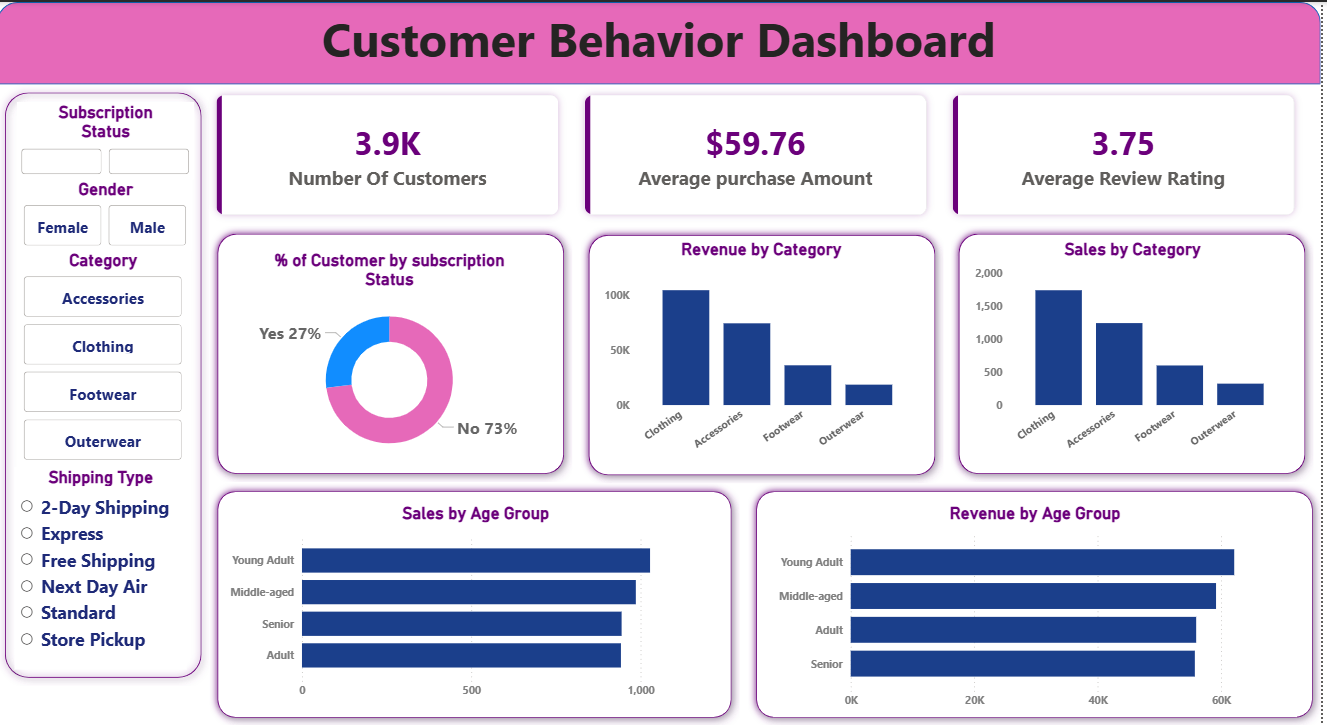

Layout of this report page (visuals, bound fields, positions):
{"tool":"powerbi","page":{"name":"Page 1","canvas":[1500,820],"ordinal":0},"visuals":[{"type":"shape","box":[851.5,545.4,648.9,274.8],"z":0},{"type":"cardVisual","fields":{"Data":["public customer.Number Of Customers","public customer.Average purchase Amount","public customer.Average Review Rating"]},"box":[221,77.9,1279.3,191.3],"z":1000},{"type":"shape","box":[0,0,1500.3,93.5],"z":2000},{"type":"textbox","box":[0,0,1500.3,93.5],"z":3000},{"type":"shape","box":[240.8,253.6,410.9,290.4],"z":4000},{"type":"donutChart","title":"% of Customer by subscription Status","fields":{"Category":["public customer.subscription_status"],"Y":["CountNonNull(public customer.customer_id)"]},"box":[257.8,281.9,374,245.1],"z":5000},{"type":"shape","box":[660.9,255,410.9,290.4],"z":6000},{"type":"shape","box":[1081,253.6,410.9,290.4],"z":7000},{"type":"clusteredColumnChart","title":"Revenue by Category","fields":{"Y":["Sum(public customer.purchase_amount)"],"Category":["public customer.category"]},"box":[682.9,269.2,366.9,257.8],"z":8000},{"type":"clusteredColumnChart","title":"Sales by Category","fields":{"Y":["CountNonNull(public customer.customer_id)"],"Category":["public customer.category"]},"box":[1103.6,269.2,366.9,257.8],"z":9000},{"type":"shape","box":[0,93.5,240.8,681.4],"z":10000},{"type":"advancedSlicerVisual","title":"Subscription Status","fields":{"Values":["public customer.subscription_status"]},"box":[22.7,113.3,201.2,87.8],"z":11000},{"type":"advancedSlicerVisual","title":"Gender","fields":{"Values":["public customer.gender"]},"box":[25.5,201.2,195.5,80.8],"z":12000},{"type":"advancedSlicerVisual","title":"Category","fields":{"Values":["public customer.category"]},"box":[25.5,281.9,189.8,245.1],"z":13000},{"type":"listSlicer","title":"Shipping Type","fields":{"Values":["public customer.shipping_type"]},"box":[19.8,527,195.5,229.5],"z":14000},{"type":"clusteredBarChart","title":"Revenue by Age Group","fields":{"Y":["Sum(public customer.purchase_amount)"],"Category":["public customer.age_group"]},"box":[879.8,568.1,593.6,242.3],"z":15000},{"type":"shape","box":[240.8,545.4,600.7,274.8],"z":16000},{"type":"clusteredBarChart","title":"Sales by Age Group","fields":{"Y":["CountNonNull(public customer.customer_id)"],"Category":["public customer.age_group"]},"box":[257.8,568.1,569.5,230.9],"z":17000}]}

Visuals, with their boxes in screenshot pixels (x1, y1, x2, y2), scaled from the page's 1500x820 canvas onto the 1327x725 screenshot:
shape: x1=753, y1=482, x2=1326, y2=724
cardVisual - public customer.Number Of Customers x public customer.Average purchase Amount: x1=196, y1=69, x2=1326, y2=238
shape: x1=0, y1=0, x2=1326, y2=83
textbox: x1=0, y1=0, x2=1326, y2=83
shape: x1=213, y1=224, x2=577, y2=481
"% of Customer by subscription Status" donutChart: x1=228, y1=249, x2=559, y2=466
shape: x1=585, y1=225, x2=948, y2=482
shape: x1=956, y1=224, x2=1320, y2=481
"Revenue by Category" clusteredColumnChart: x1=604, y1=238, x2=929, y2=466
"Sales by Category" clusteredColumnChart: x1=976, y1=238, x2=1301, y2=466
shape: x1=0, y1=83, x2=213, y2=685
"Subscription Status" advancedSlicerVisual: x1=20, y1=100, x2=198, y2=178
"Gender" advancedSlicerVisual: x1=23, y1=178, x2=196, y2=249
"Category" advancedSlicerVisual: x1=23, y1=249, x2=190, y2=466
"Shipping Type" listSlicer: x1=18, y1=466, x2=190, y2=669
"Revenue by Age Group" clusteredBarChart: x1=778, y1=502, x2=1303, y2=717
shape: x1=213, y1=482, x2=744, y2=724
"Sales by Age Group" clusteredBarChart: x1=228, y1=502, x2=732, y2=706
